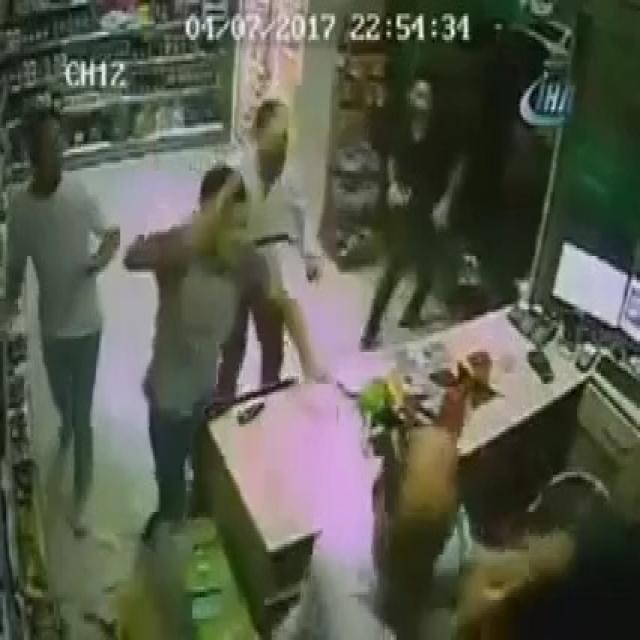fight: (128, 162, 263, 400)
